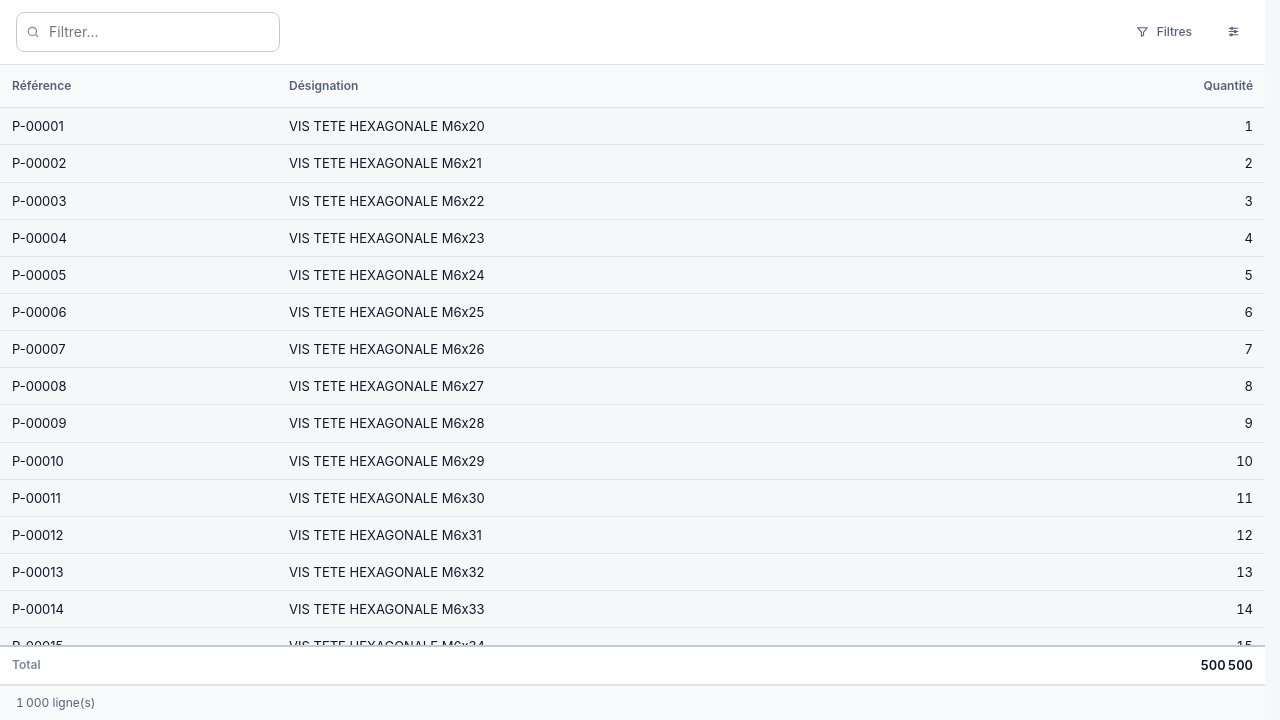
Test: le tri porte sur toutes les lignes, pas sur celles qu’on voit › le tri numérique ne compare pas des chaînes
The width and height of the screenshot is (1280, 720).
Step 1. Click the column heading "Quantité" → (1138, 86), box [1010,65,1265,108]
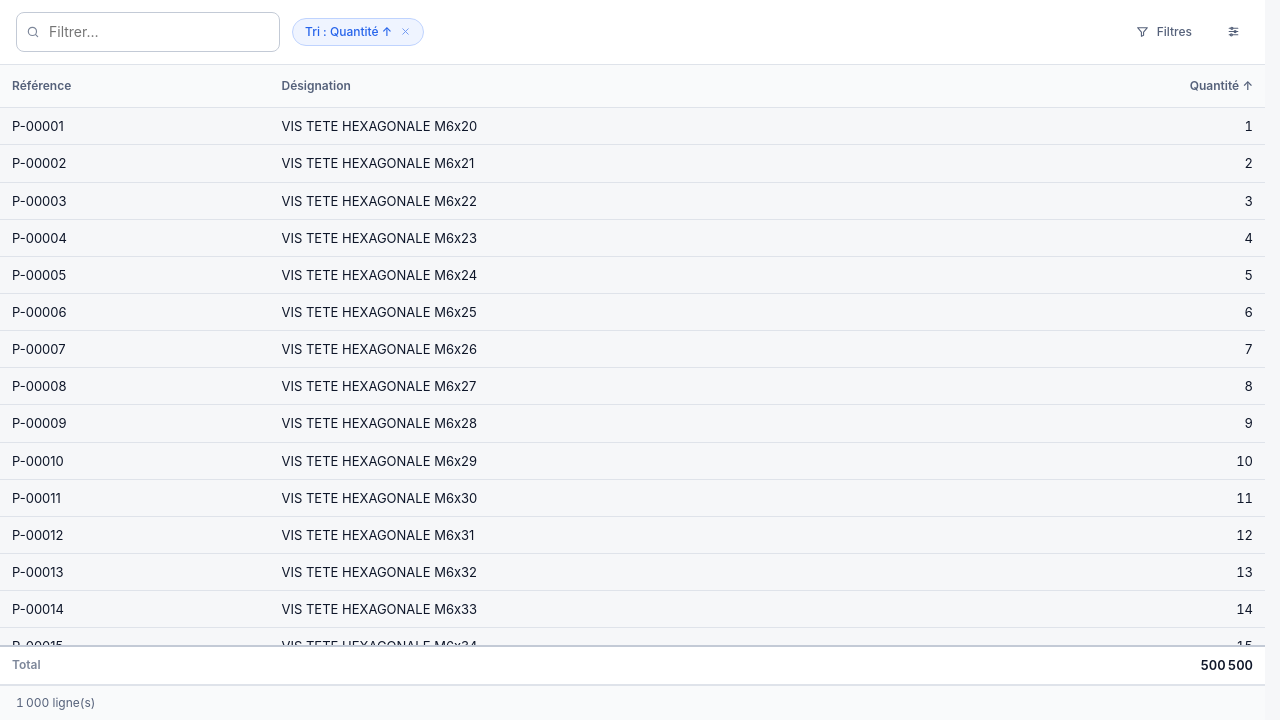
Step 2. Click the column heading "Quantité ↑" → (1124, 86), box [983,65,1265,108]
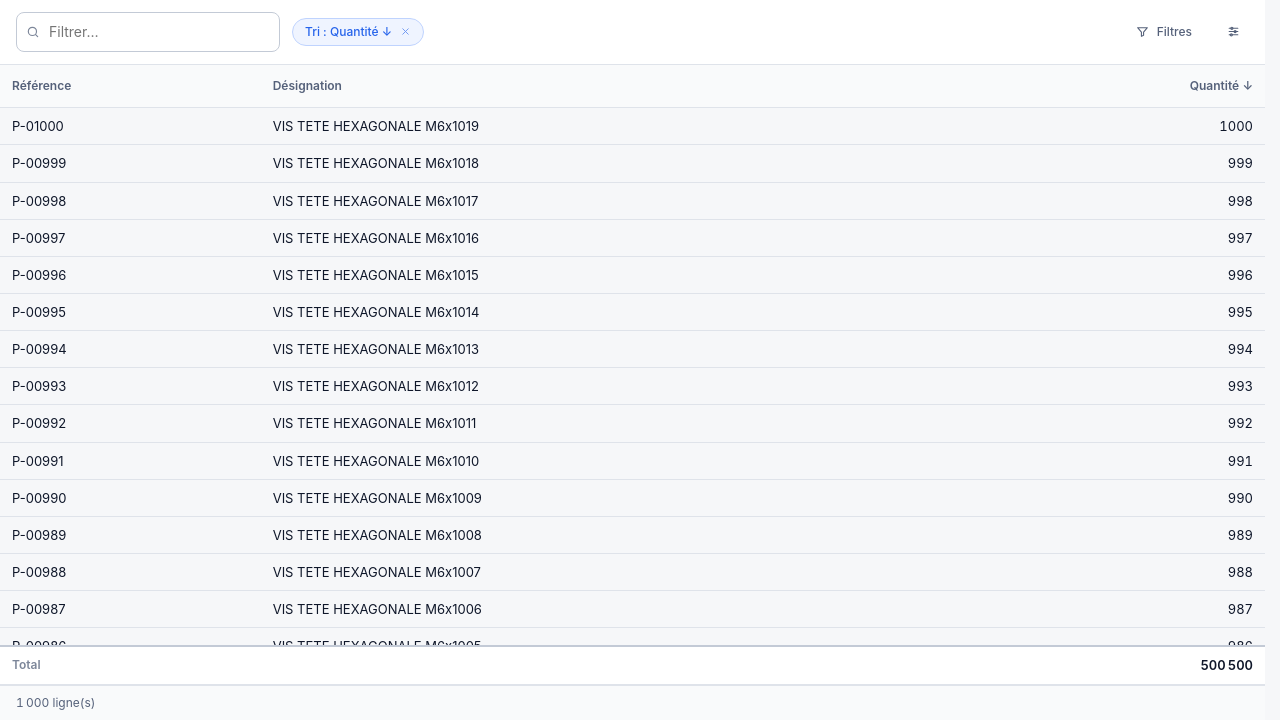
Expected: the text "P-01000" is shown, [0,108,261,145]
